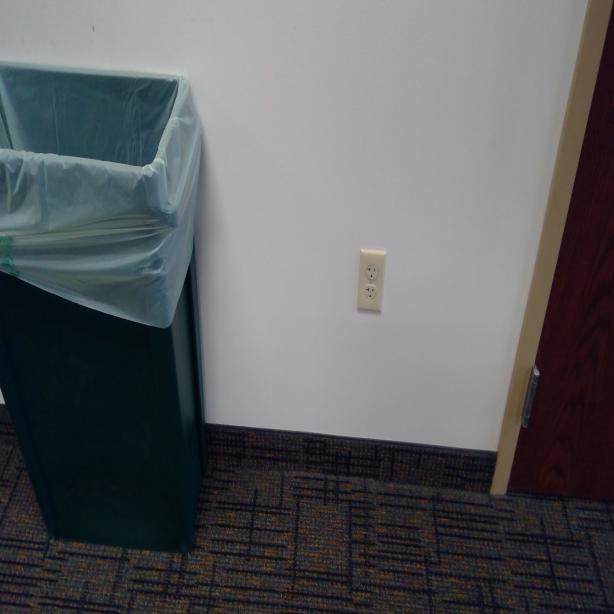typeb: (366, 264, 379, 284)
